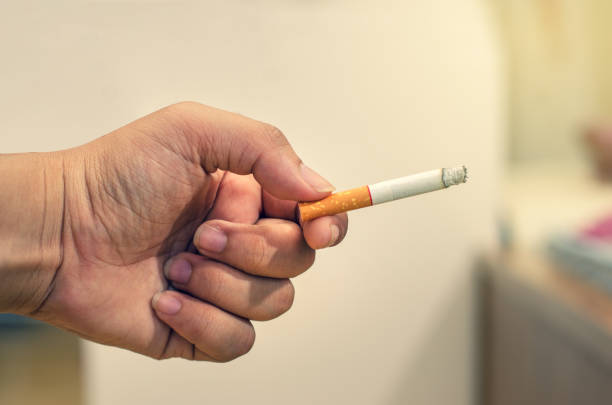cigarette: (296, 158, 470, 226)
